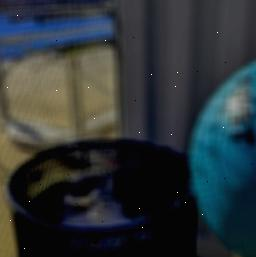algae: (184, 41, 256, 257)
